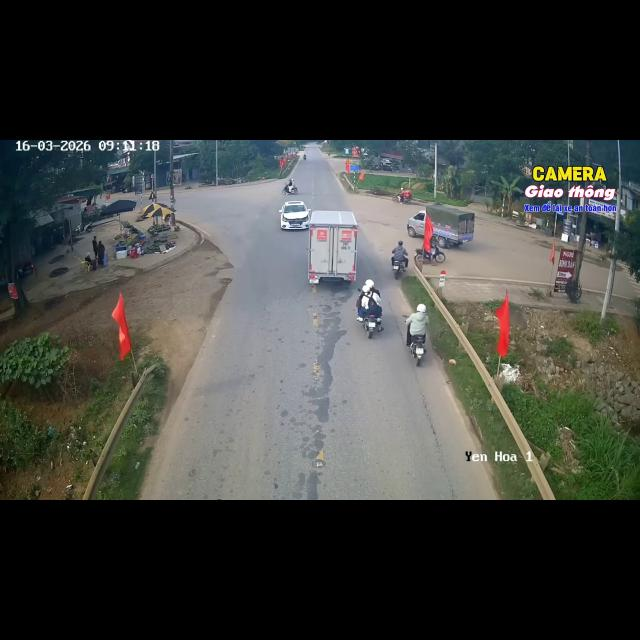car: (280, 201, 310, 229)
motorcycle: (410, 336, 425, 366), (362, 314, 380, 338), (363, 314, 379, 338), (429, 247, 445, 262), (392, 261, 405, 279), (75, 222, 92, 235), (392, 195, 410, 203), (282, 186, 297, 194), (303, 155, 306, 160)
truck: (308, 211, 358, 283), (407, 204, 474, 248)
